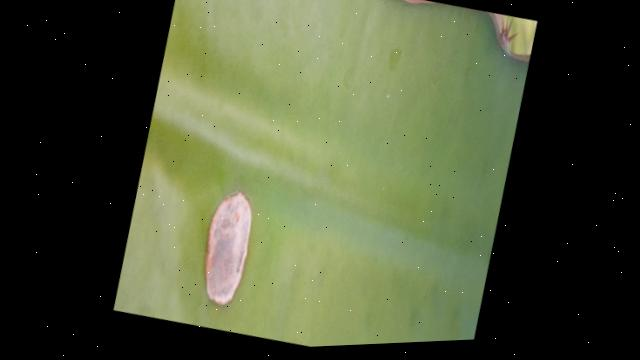stemcanker: (199, 186, 257, 308)
